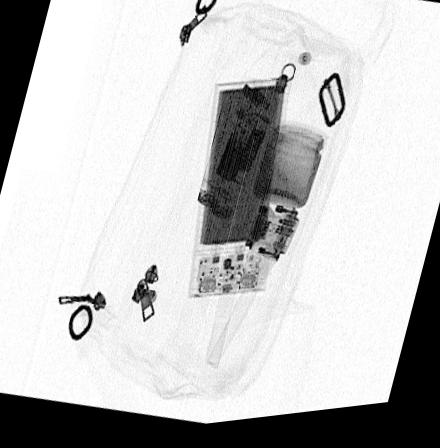Powerbank: (189, 83, 290, 301)
